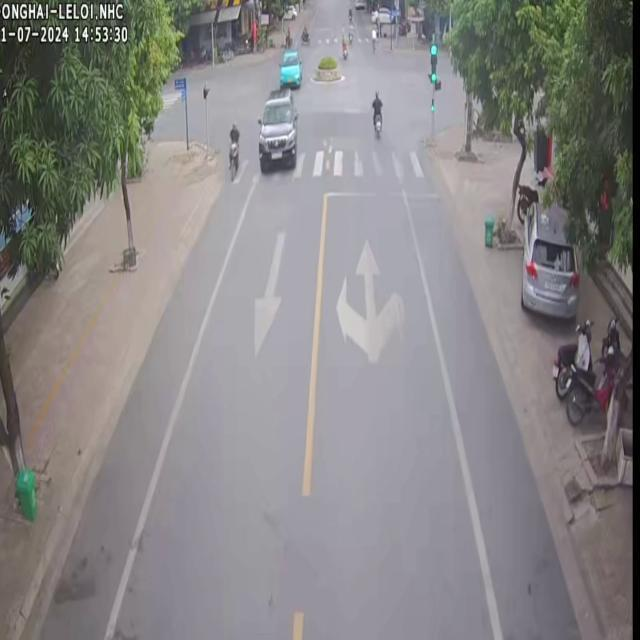car: (519, 200, 577, 316), (256, 87, 297, 171)
green_light: (427, 40, 436, 84)
motobike: (564, 316, 629, 422), (550, 318, 590, 398), (227, 120, 238, 179), (370, 89, 380, 135)
stop_line: (326, 190, 437, 197)
